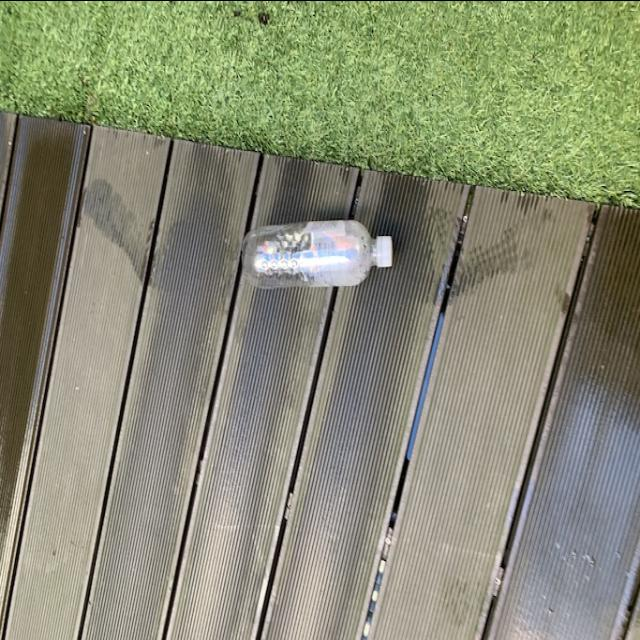litter: (244, 218, 398, 288)
